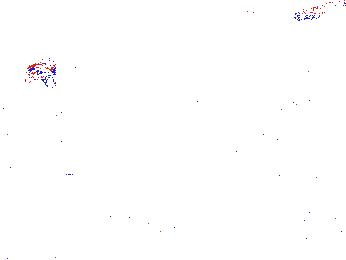glassfish: (204, 140, 307, 210)
red belly glassfish: (254, 95, 303, 117), (24, 60, 58, 88)
redtail glassfish: (290, 1, 346, 26)
